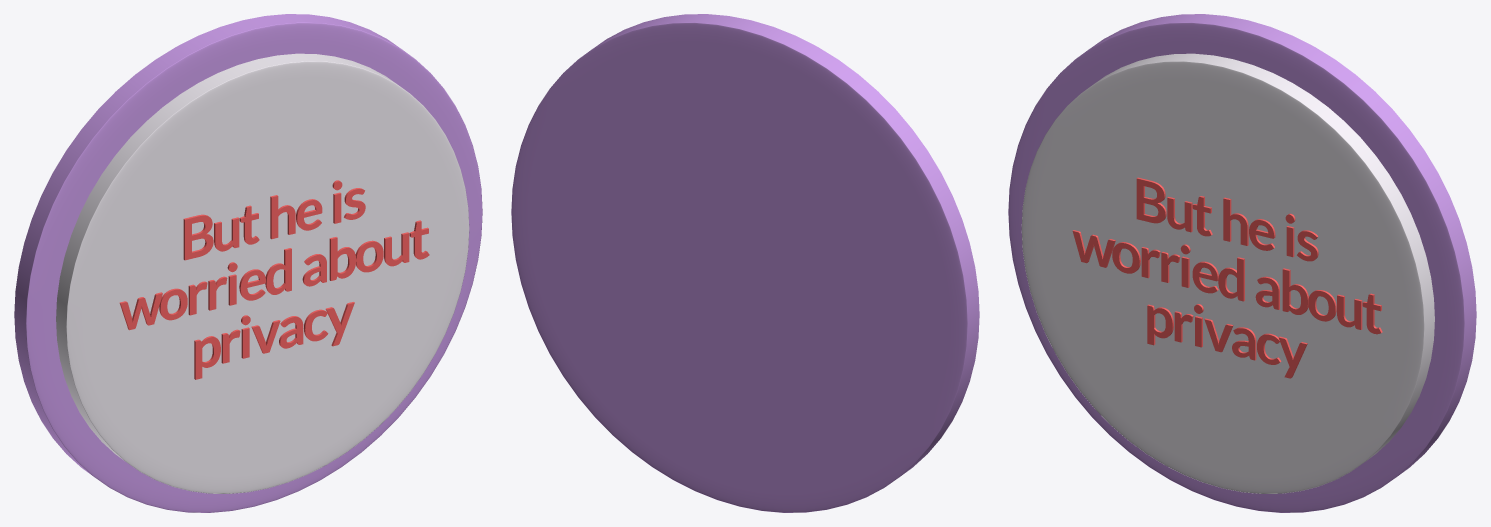
File: explainer-poc-pop-up-3.glb
The picture shows the model from 3 angles, left to right: view 1: azimuth 30°, elevation 25°; view 2: azimuth 150°, elevation 25°; view 3: azimuth 330°, elevation 25°; orthographic projection.
Parts seen in each view (by area): view 1: Cylinder 2, Cylinder 1, 3D Text 2 - o (×2), 3D Text 2 - e (×2), 3D Text 2 - u (×2), 3D Text 2 - a (×2), 3D Text 2 - B, 3D Text 2 - w, 3D Text 2 - b, 3D Text 2 - p, 3D Text 2 - d, 3D Text 2 - h (+1 smaller); view 2: Cylinder 1; view 3: Cylinder 2, Cylinder 1, 3D Text 2 - o (×2), 3D Text 2 - e (×2), 3D Text 2 - u (×2), 3D Text 2 - a (×2), 3D Text 2 - B, 3D Text 2 - w, 3D Text 2 - b, 3D Text 2 - d, 3D Text 2 - h, 3D Text 2 - p (+1 smaller).
Boxes of the visible parts, x1,y1,x2,y2 form: Cylinder 2: (56, 53, 469, 493); Cylinder 1: (14, 14, 482, 512); 3D Text 2 - o (×2): (159, 240, 383, 320); 3D Text 2 - e (×2): (239, 199, 322, 300); 3D Text 2 - u (×2): (214, 217, 409, 266); 3D Text 2 - a (×2): (279, 254, 326, 348); 3D Text 2 - B: (183, 214, 213, 260); 3D Text 2 - w: (119, 292, 162, 330); 3D Text 2 - b: (329, 237, 356, 280); 3D Text 2 - p: (194, 336, 220, 379); 3D Text 2 - d: (265, 248, 291, 294); 3D Text 2 - h: (270, 195, 295, 239); Cylinder 1: (511, 14, 979, 512); Cylinder 2: (1021, 53, 1434, 493); Cylinder 1: (1008, 14, 1476, 512); 3D Text 2 - o (×2): (1112, 242, 1336, 321); 3D Text 2 - e (×2): (1192, 219, 1275, 293); 3D Text 2 - u (×2): (1167, 197, 1362, 329); 3D Text 2 - a (×2): (1232, 276, 1279, 360); 3D Text 2 - B: (1136, 177, 1166, 223); 3D Text 2 - w: (1072, 230, 1115, 267); 3D Text 2 - b: (1282, 268, 1308, 314); 3D Text 2 - d: (1218, 257, 1244, 301); 3D Text 2 - h: (1223, 197, 1248, 245); 3D Text 2 - p: (1147, 304, 1173, 345).
Bounding box in the file's own units: 0.0435 × 0.0435 × 0.00454.
